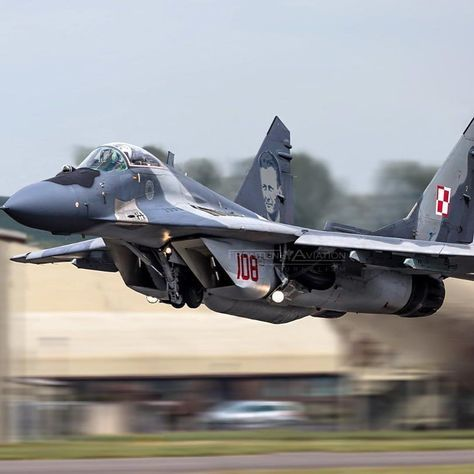Mig-29: (7, 105, 474, 339)
